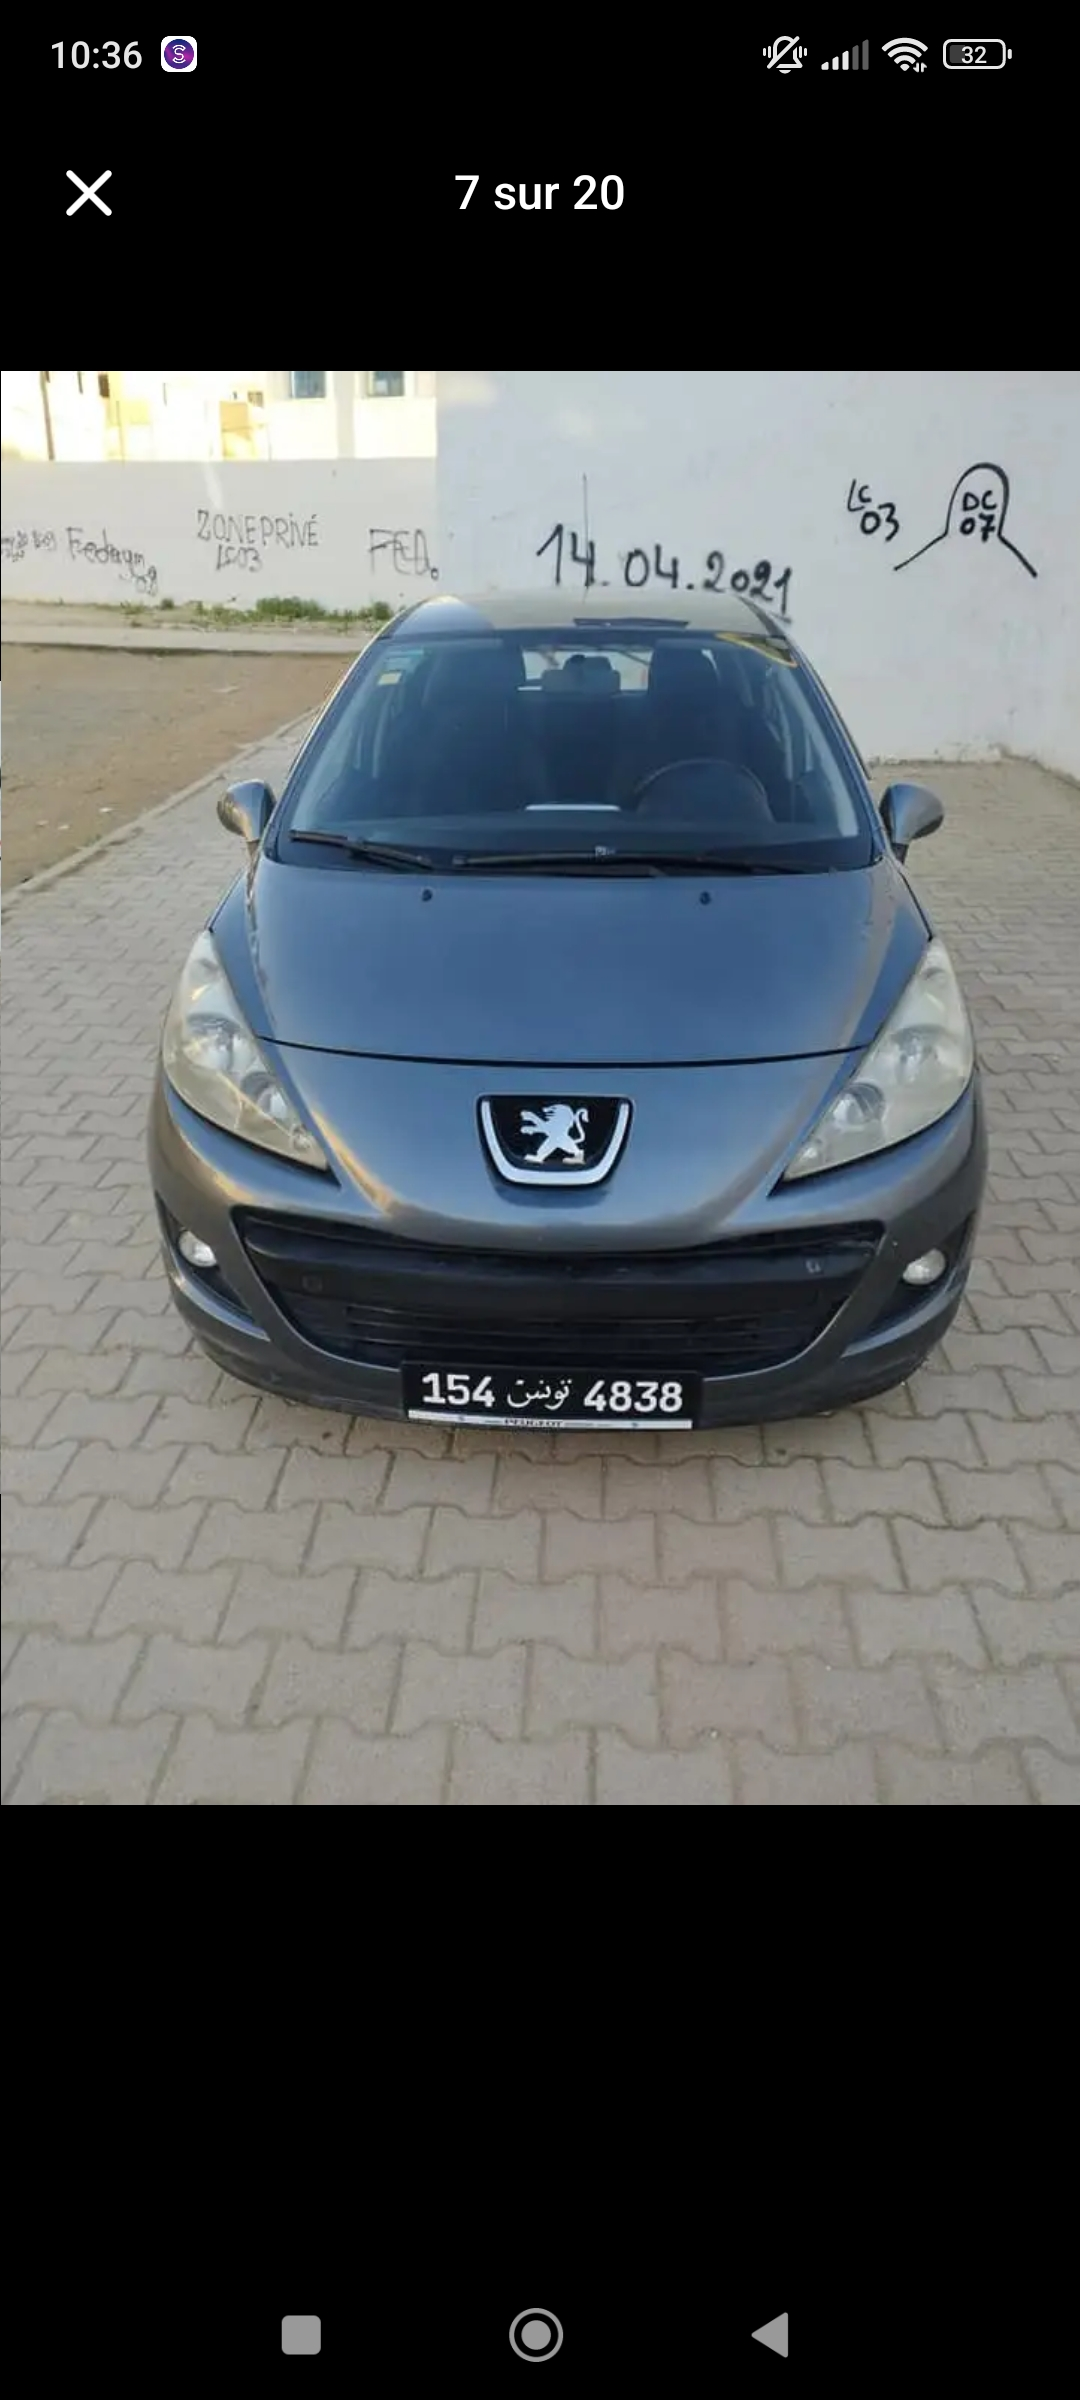peugoet: (150, 582, 1020, 1488)
